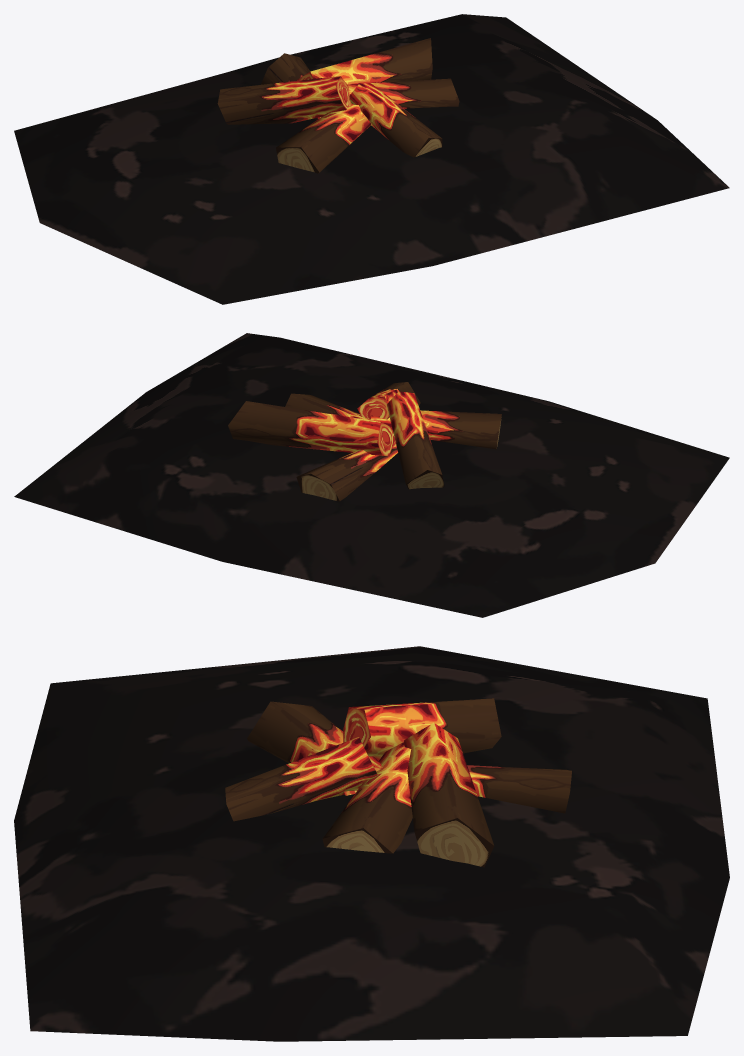
Rendered from SM_PROP_fireplace_fire_dungeon_01.fbx.
3 renders of one model, top to bottom at view 1: azimuth 30°, elevation 25°; view 2: azimuth 150°, elevation 25°; view 3: azimuth 270°, elevation 25°, orthographic. The views are drawn at different scales.
Parts seen in each view (by area): view 1: SM_PROP_fireplace_fire_dungeon_01; view 2: SM_PROP_fireplace_fire_dungeon_01; view 3: SM_PROP_fireplace_fire_dungeon_01.
Part boxes in pixels (x1,y1,x2,y2): SM_PROP_fireplace_fire_dungeon_01: (14, 14, 729, 304); SM_PROP_fireplace_fire_dungeon_01: (14, 333, 729, 617); SM_PROP_fireplace_fire_dungeon_01: (14, 646, 729, 1041).
Bounding box in the file's own units: 219 × 34.09 × 168.
